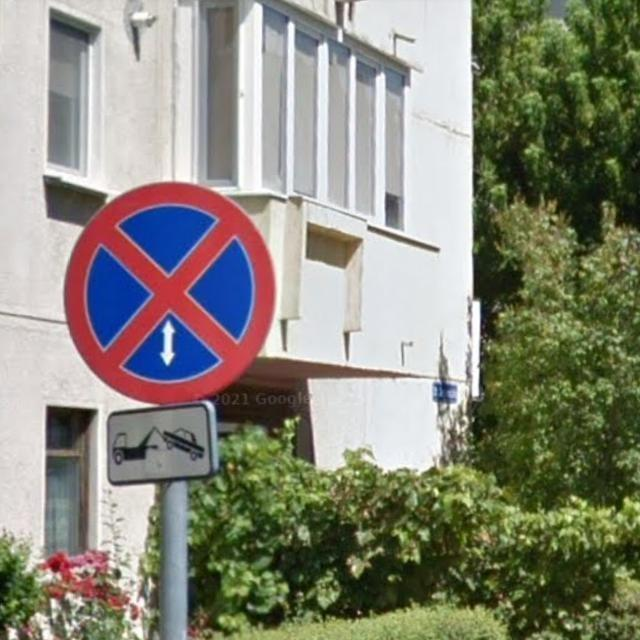forb_waiting: (64, 182, 273, 404)
